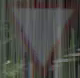Give way: (4, 3, 75, 65)
